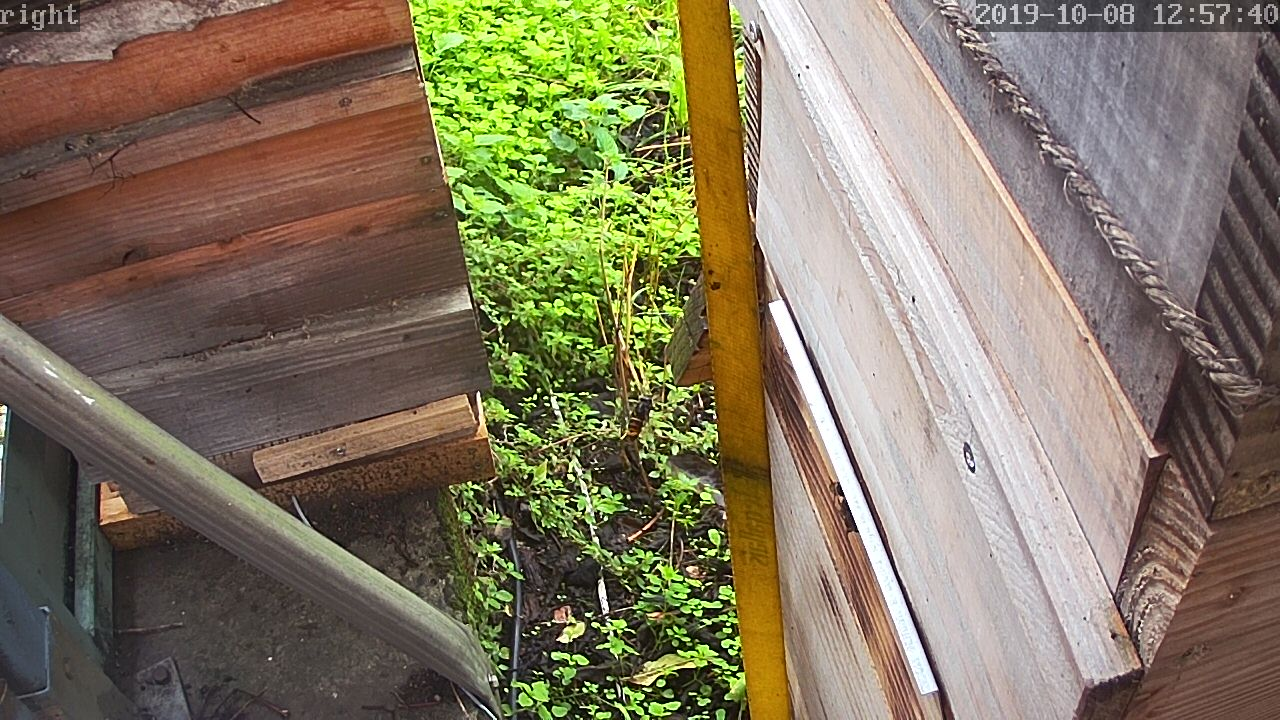bee: (822, 476, 863, 535)
hornet: (621, 385, 653, 449)
